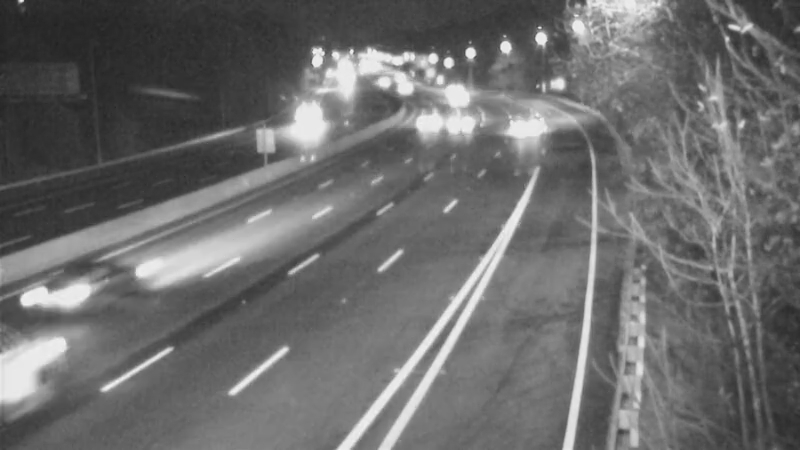vehicle: (1, 314, 87, 424), (19, 254, 99, 334), (429, 73, 479, 123), (392, 93, 442, 143), (427, 95, 477, 145), (490, 107, 540, 157), (281, 96, 331, 146)
